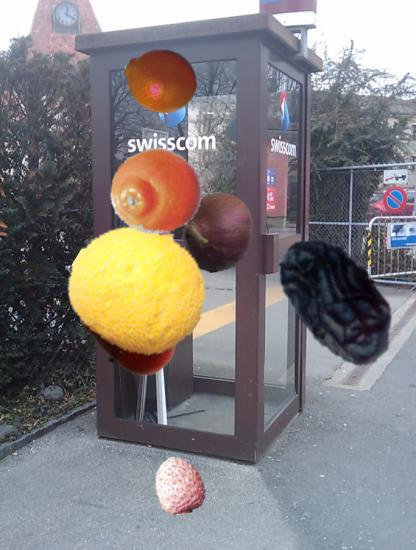Cantaloupe: (70, 218, 208, 356)
Dates: (264, 227, 412, 375)
Lychee: (151, 456, 210, 515)
Nectarine: (73, 272, 183, 382)
Onion: (177, 192, 258, 273)
Tangelo: (110, 146, 204, 240), (123, 43, 197, 117)
